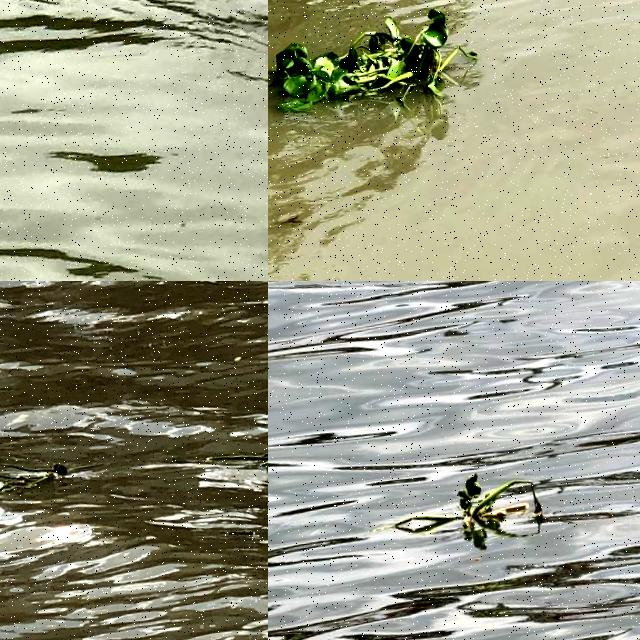water-hyacinth: (269, 1, 481, 130), (390, 461, 548, 540), (1, 455, 84, 505)
